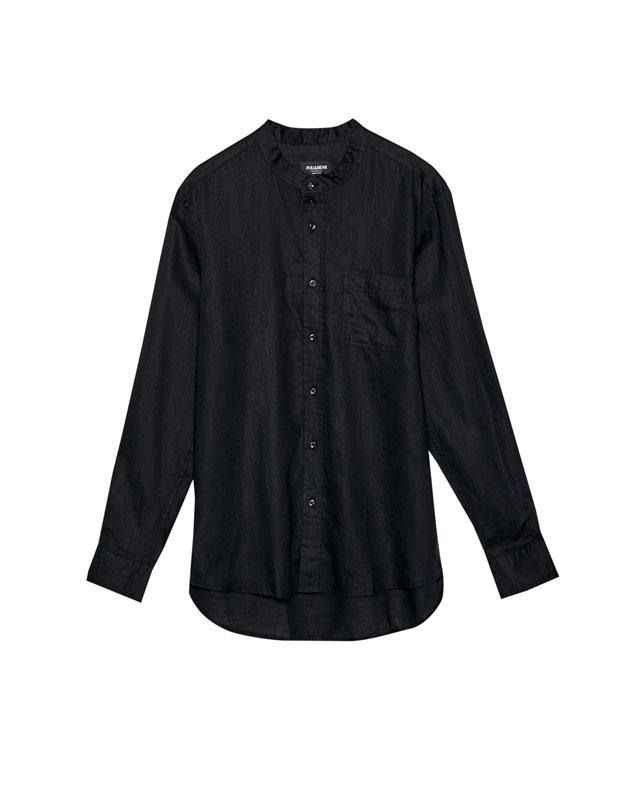teeshirt: (90, 114, 563, 647)
